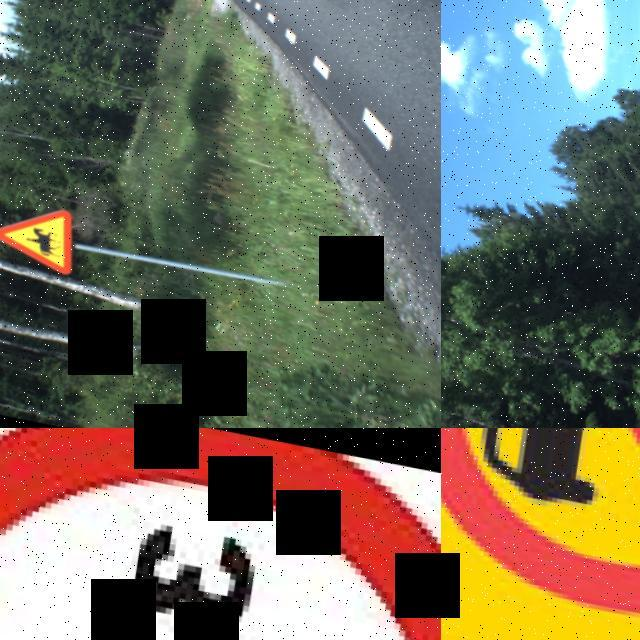154: (0, 189, 85, 278)
82: (441, 428, 640, 640)
Height limit-3-5m: (0, 428, 441, 640)
